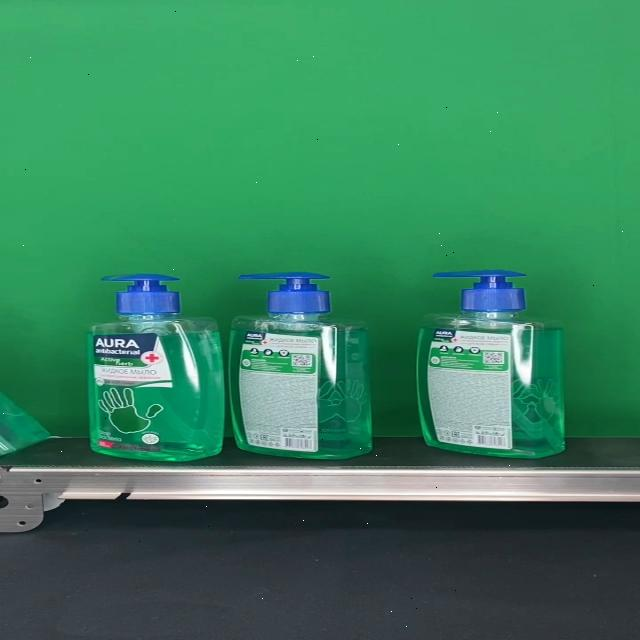Bottle: (414, 270, 566, 459), (228, 271, 373, 461), (86, 272, 225, 462)
Cap: (431, 270, 526, 314), (237, 271, 328, 314), (100, 272, 180, 314)
